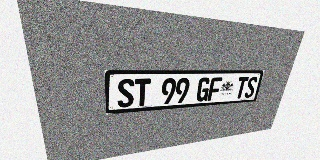9: (161, 78, 177, 104), (174, 78, 190, 103)
F: (207, 77, 223, 101)
G: (195, 77, 211, 102)
S: (117, 79, 134, 108), (244, 77, 258, 98)
T: (134, 78, 151, 107), (234, 77, 249, 99)
